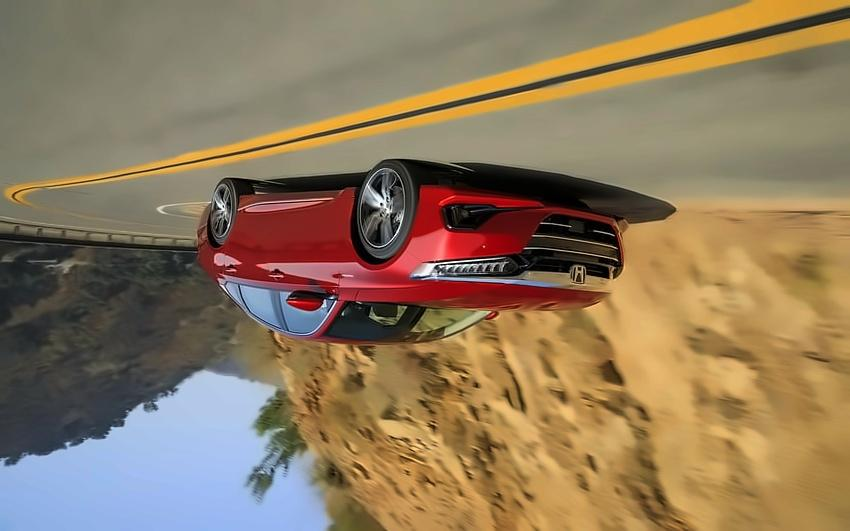Car hood: (354, 280, 617, 314)
Fender - -F-L-: (339, 185, 422, 305)
Fender - -R-L-: (203, 194, 239, 274)
Front bumper: (413, 181, 636, 261)
Headlight - -L-: (408, 252, 524, 285)
Passenger-s door - -F-L-: (269, 194, 340, 341)
Passenger-s door - -R-L-: (215, 194, 269, 334)
Rear bumper: (186, 200, 214, 241)
Side bumper - -L-: (229, 185, 363, 214)
Side mirror - -L-: (284, 284, 330, 317)
